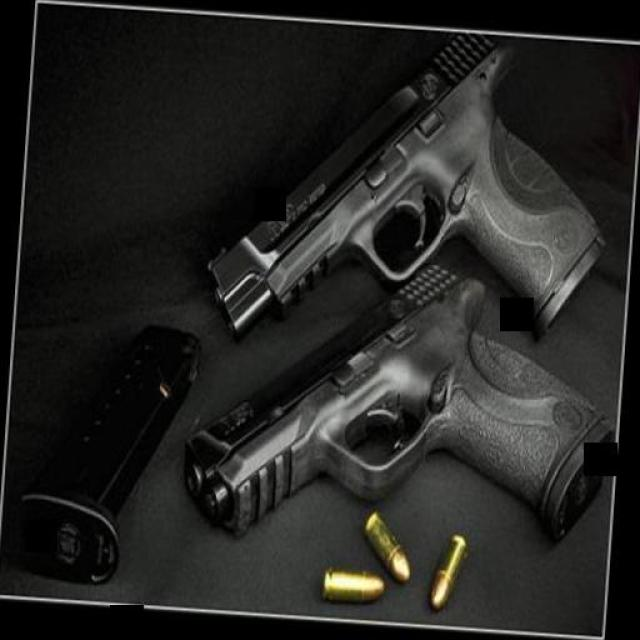gun: (189, 16, 619, 378), (176, 243, 619, 566)
